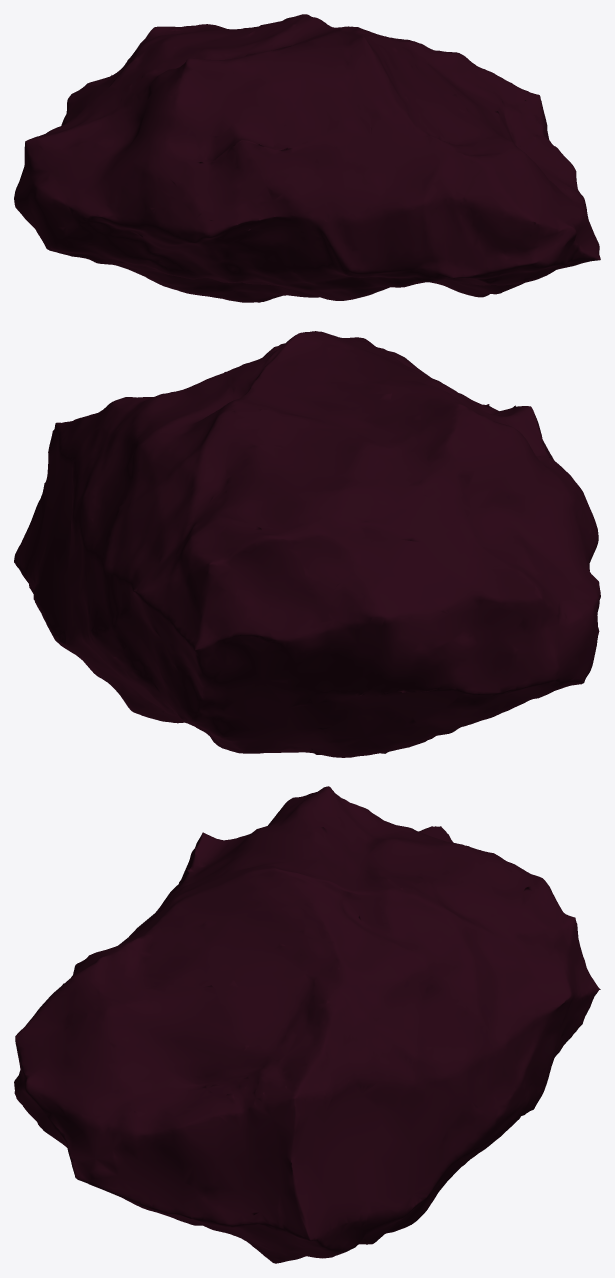
The model's file is meteorite1.fbx.
3 renders of one model, top to bottom at view 1: azimuth 30°, elevation 25°; view 2: azimuth 150°, elevation 25°; view 3: azimuth 270°, elevation 25°, orthographic. The views are drawn at different scales.
Visible parts, largest first — view 1: meteorite1; view 2: meteorite1; view 3: meteorite1.
Part boxes in pixels (x1,y1,x2,y2): meteorite1: (14,14,600,302); meteorite1: (14,331,600,757); meteorite1: (14,786,600,1263).
Size of the model in its own units: 40.55 by 22.23 by 36.69.
